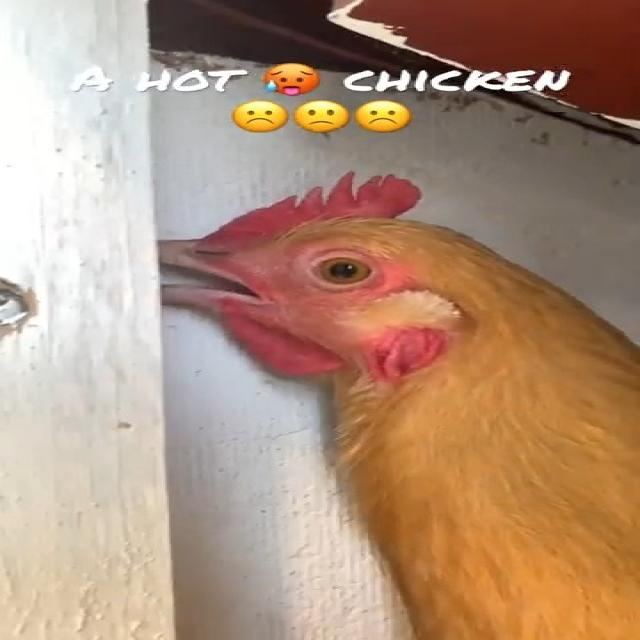Breathing: (158, 168, 638, 639)
